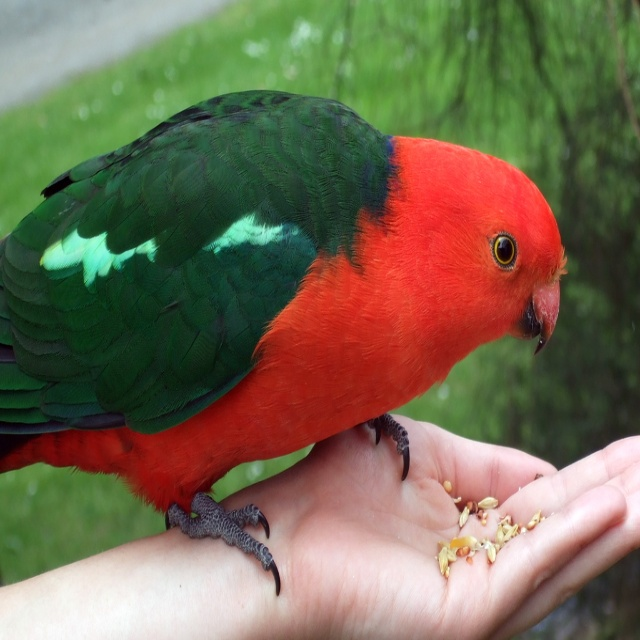Parrot: (0, 90, 568, 596)
